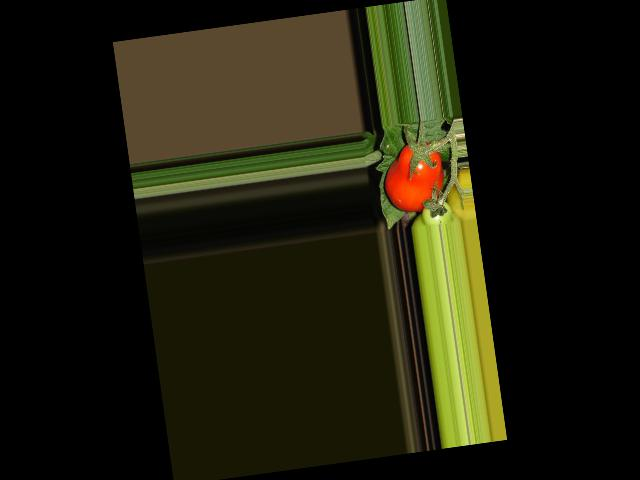tomato: (379, 138, 447, 215)
